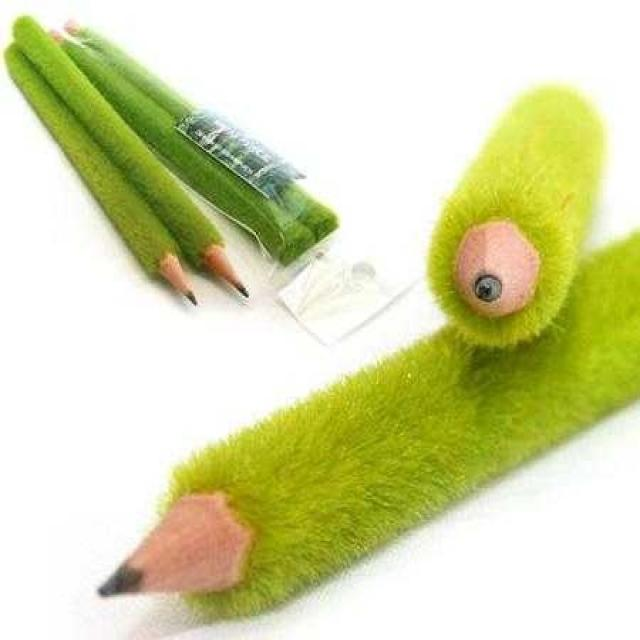pencil: (73, 215, 637, 638), (0, 8, 267, 309), (387, 61, 624, 378), (2, 34, 208, 321)
